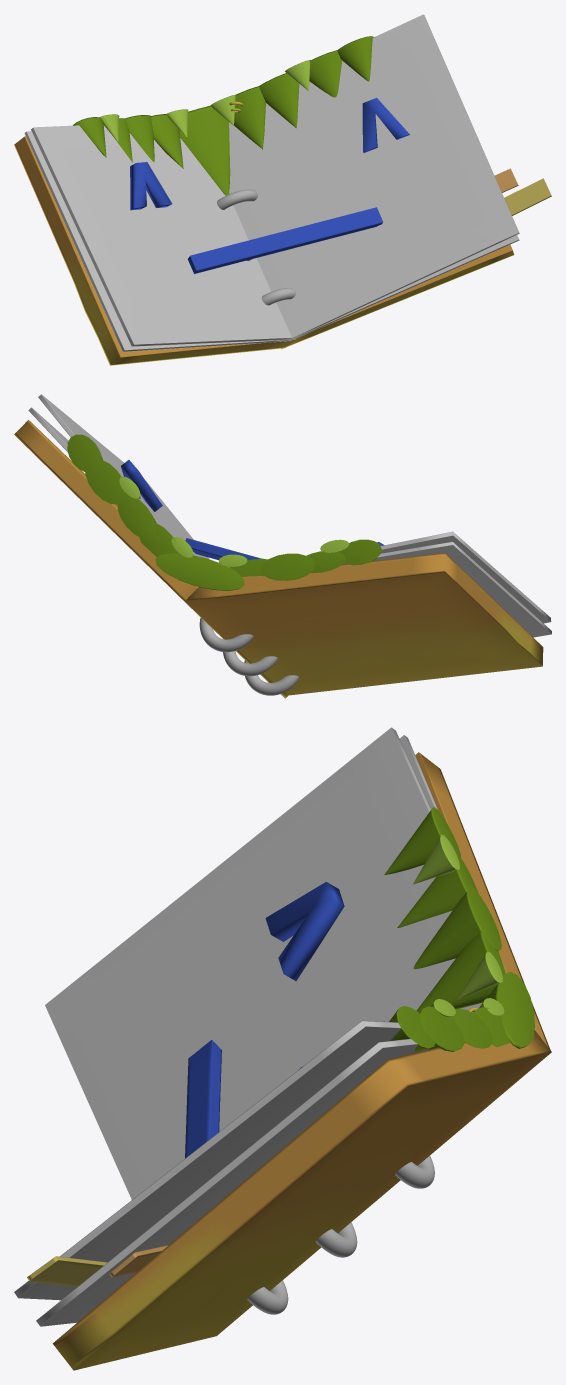
The model's file is book_optimized_cc.glb.
3 views of the same model, one above another, from view 1: azimuth 30°, elevation 25°; view 2: azimuth 150°, elevation 25°; view 3: azimuth 270°, elevation 25° (orthographic). The views are drawn at different scales.
Size of the model in its own units: 3.76 by 2.21 by 2.26.
